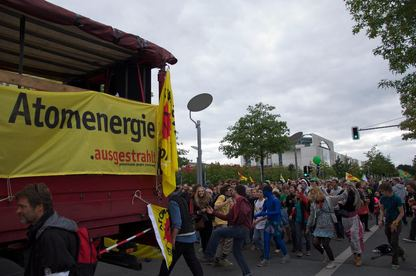truck: (0, 0, 181, 276)
